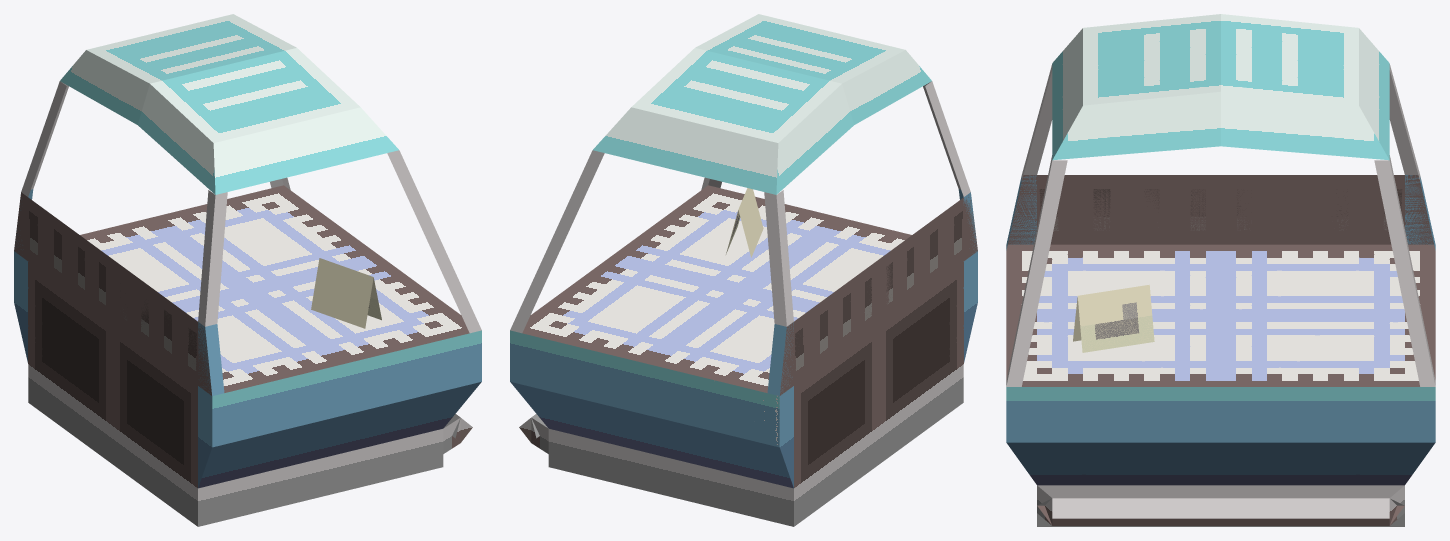
Rendered from refrigerator.fbx.
The picture shows the model from 3 angles, left to right: view 1: azimuth 30°, elevation 25°; view 2: azimuth 150°, elevation 25°; view 3: azimuth 270°, elevation 25°; orthographic projection. The views are drawn at different scales.
Parts seen in each view (by area): view 1: Refrigerator; view 2: Refrigerator; view 3: Refrigerator.
Boxes of the visible parts, <box> form: Refrigerator: <box>14,14,481,526</box>; Refrigerator: <box>510,14,977,526</box>; Refrigerator: <box>1006,14,1435,526</box>.
Bounding box in the file's own units: 71.88 × 90.63 × 87.5.
1 material, 1 textured.
